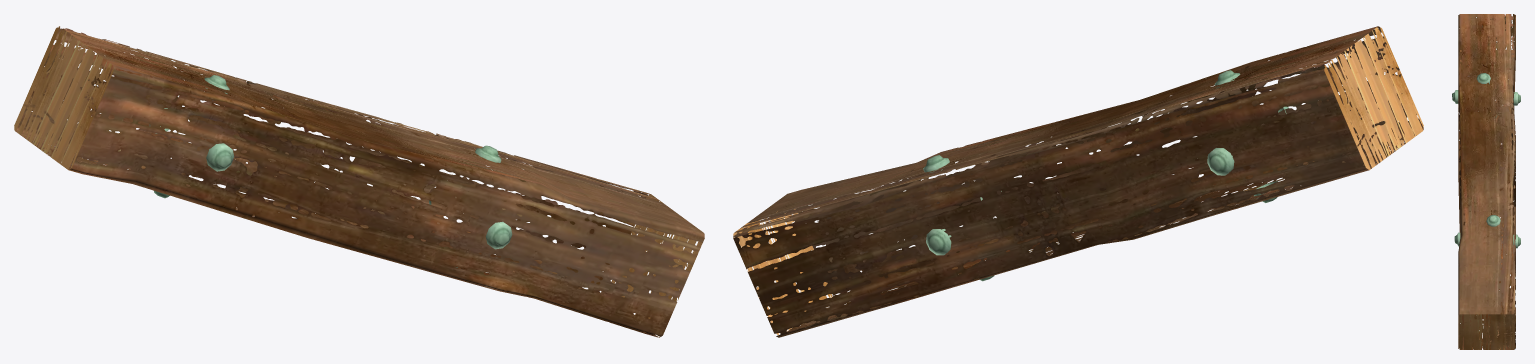
3 views of the same model, side by side, from view 1: azimuth 30°, elevation 25°; view 2: azimuth 150°, elevation 25°; view 3: azimuth 270°, elevation 25° (orthographic). The views are drawn at different scales.
Visible parts, largest first — view 1: SM_BB_T4_Beam_Thin_Med_Shallow_LOD0; view 2: SM_BB_T4_Beam_Thin_Med_Shallow_LOD0; view 3: SM_BB_T4_Beam_Thin_Med_Shallow_LOD0.
Boxes of the visible parts, bbox=[...] form: SM_BB_T4_Beam_Thin_Med_Shallow_LOD0: bbox=[14, 26, 704, 337]; SM_BB_T4_Beam_Thin_Med_Shallow_LOD0: bbox=[733, 26, 1423, 337]; SM_BB_T4_Beam_Thin_Med_Shallow_LOD0: bbox=[1452, 14, 1520, 349].
Bounding box in the file's own units: 1.61 × 0.9818 × 0.3016.
2 materials, 2 textured.
